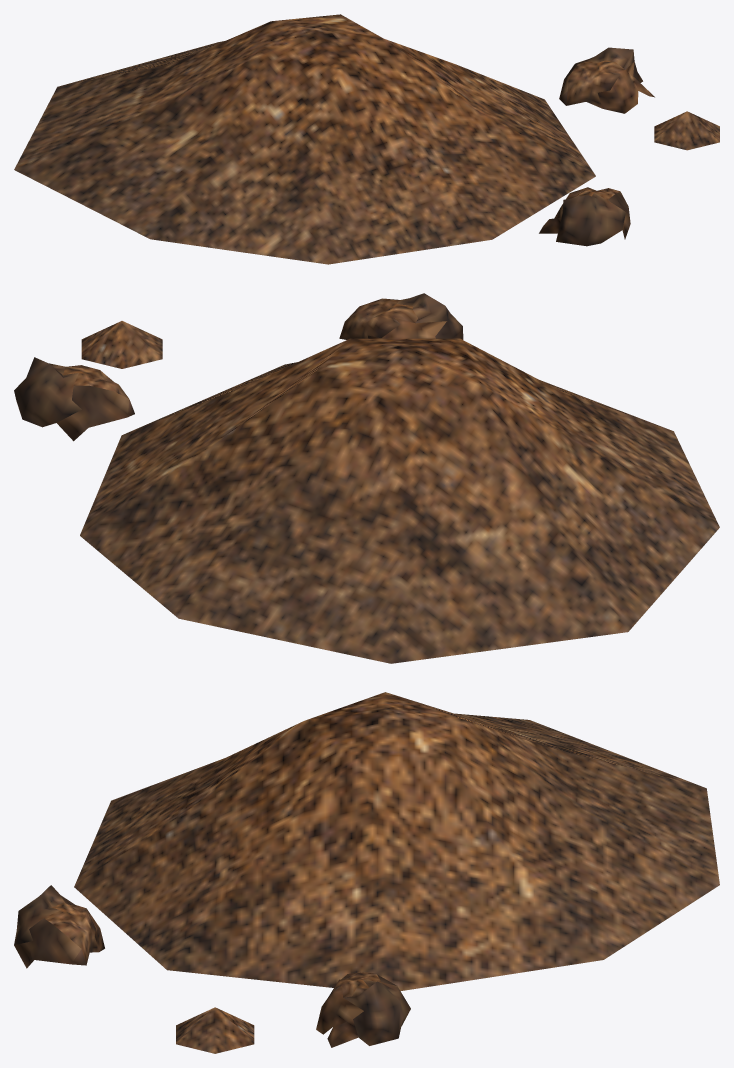
The model's file is LoosePile.fbx.
3 views of the same model, one above another, from view 1: azimuth 30°, elevation 25°; view 2: azimuth 150°, elevation 25°; view 3: azimuth 270°, elevation 25° (orthographic). The views are drawn at different scales.
Visible parts, largest first — view 1: Loose; view 2: Loose; view 3: Loose.
Part boxes in pixels (box(x1,y1,x2,y2)): Loose: box(14, 14, 719, 264); Loose: box(14, 293, 719, 663); Loose: box(14, 692, 719, 1053).
Size of the model in its own units: 0.2146 by 0.0491 by 0.1917.
